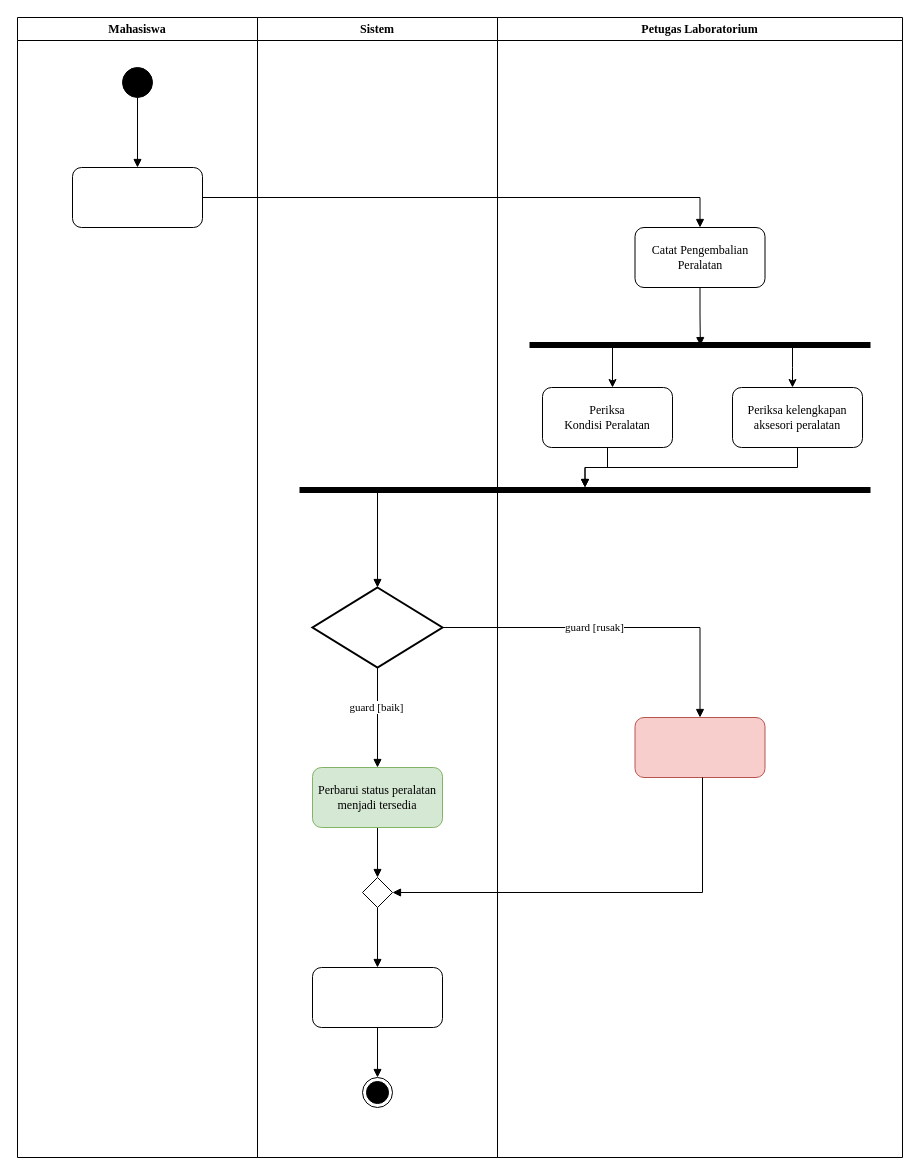
Some shapes in this 920 by 1175 pixel diagram are drawn without their labels. Here are the shapes that lost their labels. From the top down, the centre of each, then its label:
(x=137, y=197): Menyerahkan peralatan yang dipinjam
(x=377, y=627): Kondisi peralatan baik?
(x=699, y=747): Catat kerusakan dan jadwalkan perbaikan
(x=377, y=997): Menutup Transaksi Peminjaman
